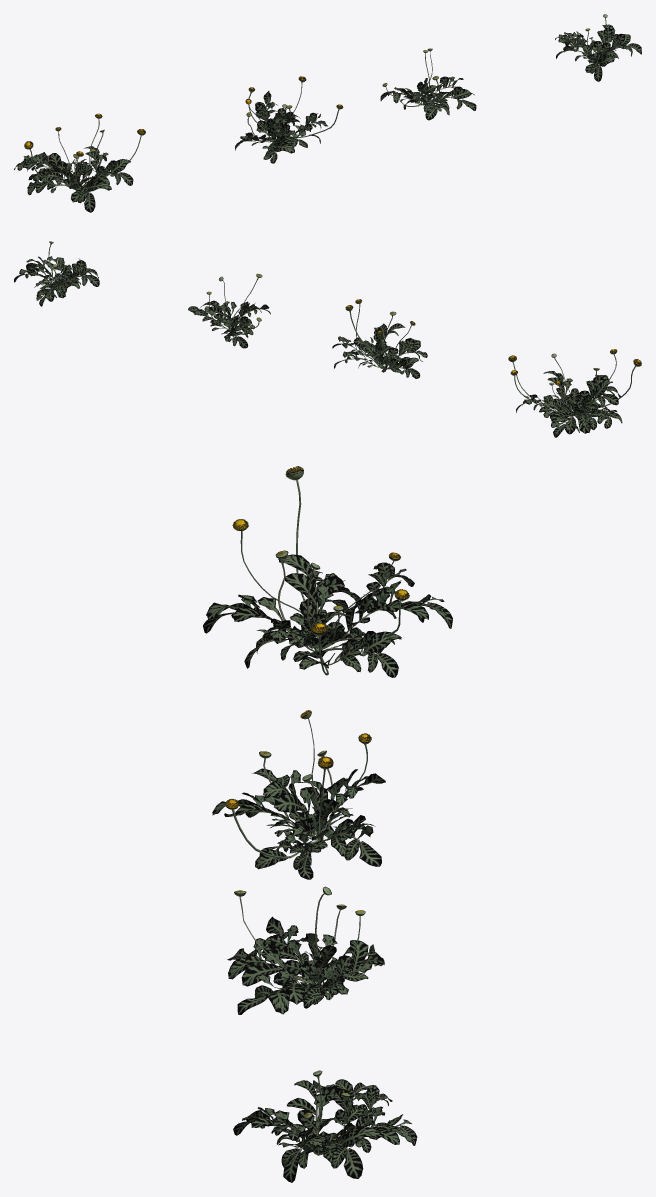
The model's file is flower_stinkkruid.glb.
The picture shows the model from 3 angles, top to bottom: view 1: azimuth 30°, elevation 25°; view 2: azimuth 150°, elevation 25°; view 3: azimuth 270°, elevation 25°; orthographic projection. The views are drawn at different scales.
Parts seen in each view (by area): view 1: flower_stinkkruid_a_LOD0, flower_stinkkruid_b_LOD0, flower_stinkkruid_d_LOD0, flower_stinkkruid_c_LOD0; view 2: flower_stinkkruid_a_LOD0, flower_stinkkruid_b_LOD0, flower_stinkkruid_d_LOD0, flower_stinkkruid_c_LOD0; view 3: flower_stinkkruid_a_LOD0, flower_stinkkruid_b_LOD0, flower_stinkkruid_c_LOD0, flower_stinkkruid_d_LOD0.
Boxes of the visible parts, x1=… form: flower_stinkkruid_a_LOD0: x1=14, y1=113, x2=145, y2=212; flower_stinkkruid_b_LOD0: x1=235, y1=76, x2=343, y2=163; flower_stinkkruid_d_LOD0: x1=555, y1=14, x2=641, y2=81; flower_stinkkruid_c_LOD0: x1=380, y1=48, x2=476, y2=120; flower_stinkkruid_a_LOD0: x1=508, y1=349, x2=641, y2=437; flower_stinkkruid_b_LOD0: x1=332, y1=299, x2=427, y2=378; flower_stinkkruid_d_LOD0: x1=14, y1=241, x2=99, y2=306; flower_stinkkruid_c_LOD0: x1=188, y1=273, x2=270, y2=348; flower_stinkkruid_a_LOD0: x1=203, y1=466, x2=452, y2=677; flower_stinkkruid_b_LOD0: x1=212, y1=710, x2=385, y2=879; flower_stinkkruid_c_LOD0: x1=227, y1=886, x2=384, y2=1014; flower_stinkkruid_d_LOD0: x1=233, y1=1070, x2=417, y2=1182.
Bounding box in the file's own units: 1.71 × 0.1782 × 0.3005.
1 material, 1 textured.
